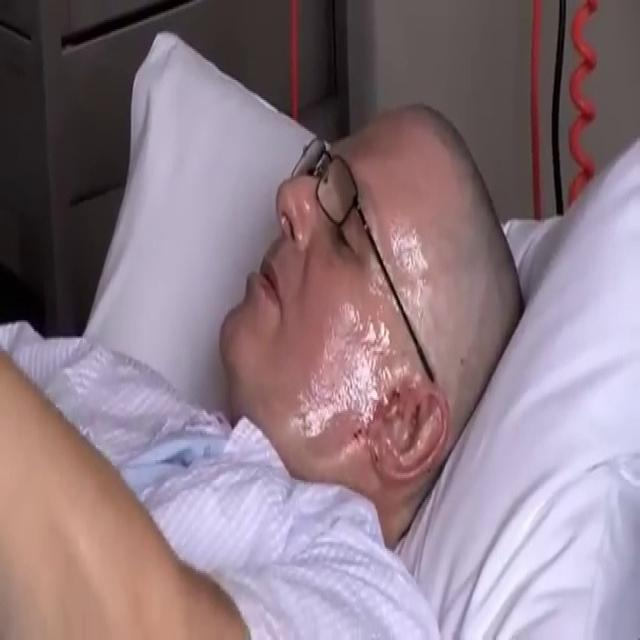patient: (136, 100, 492, 515)
